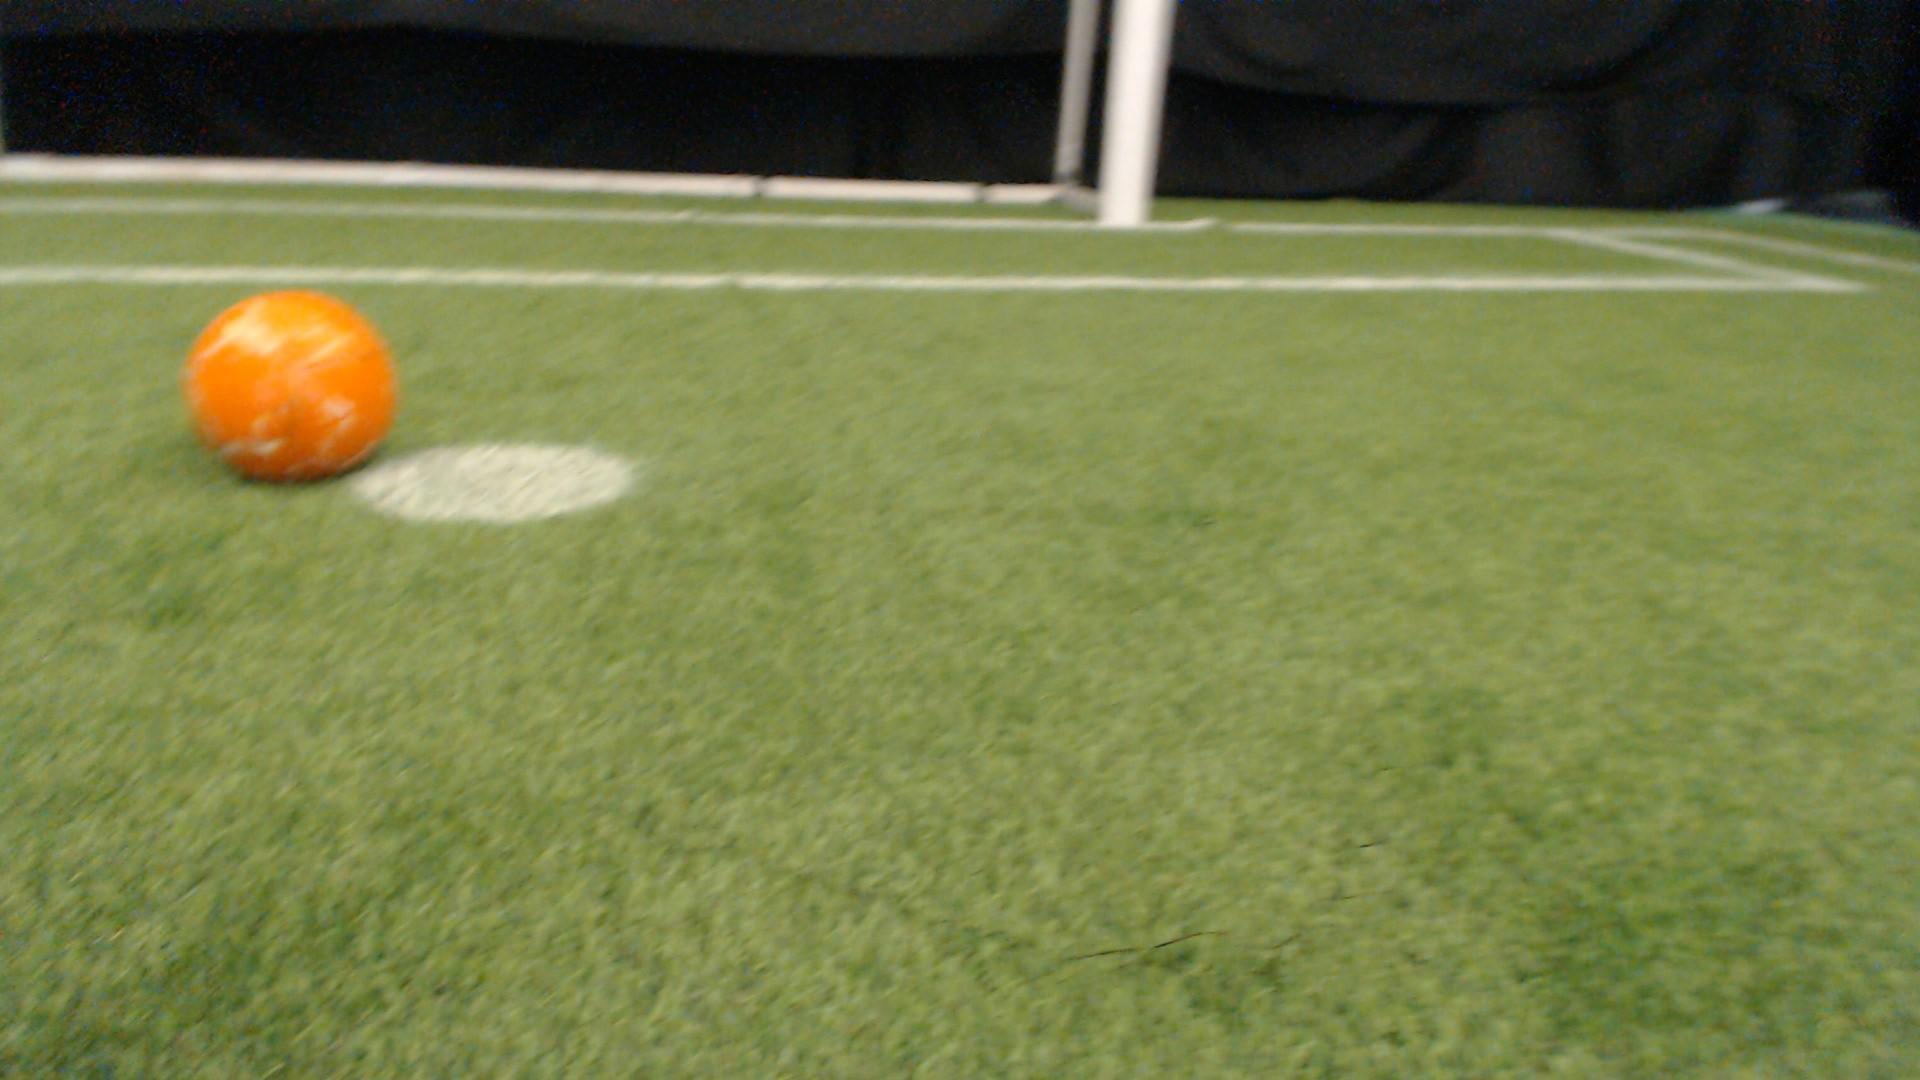bola: (152, 262, 427, 506)
